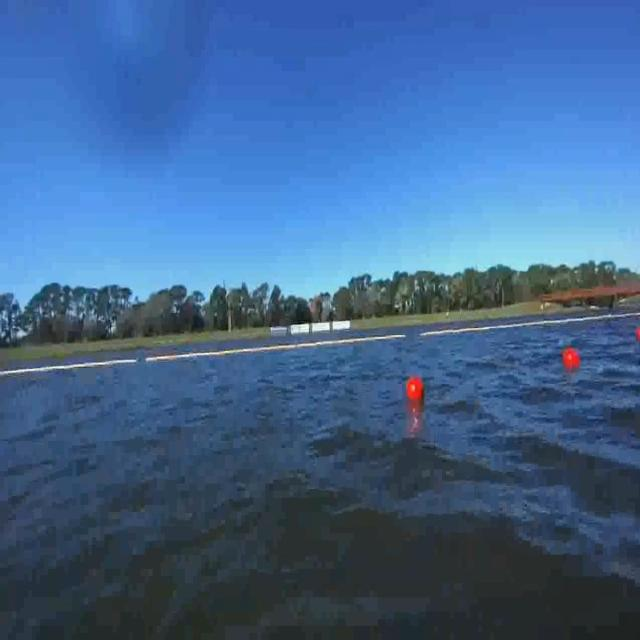red-buoy: (408, 374, 425, 400), (563, 348, 580, 371), (635, 326, 640, 342)
